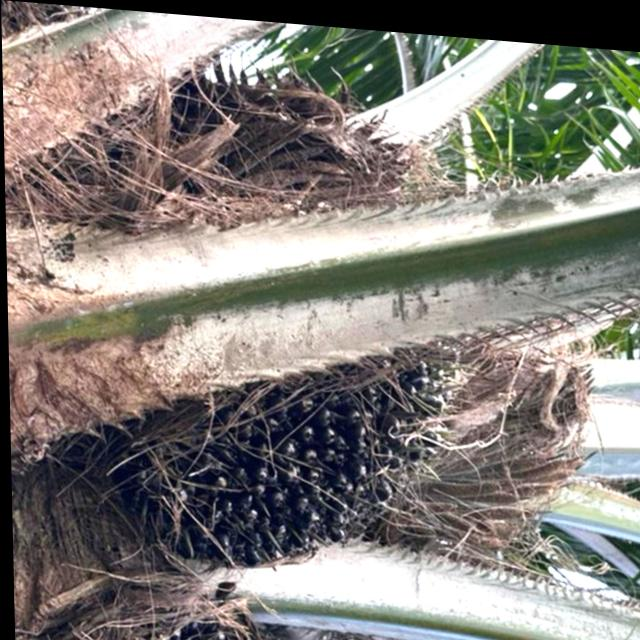unripe: (101, 292, 478, 591)
